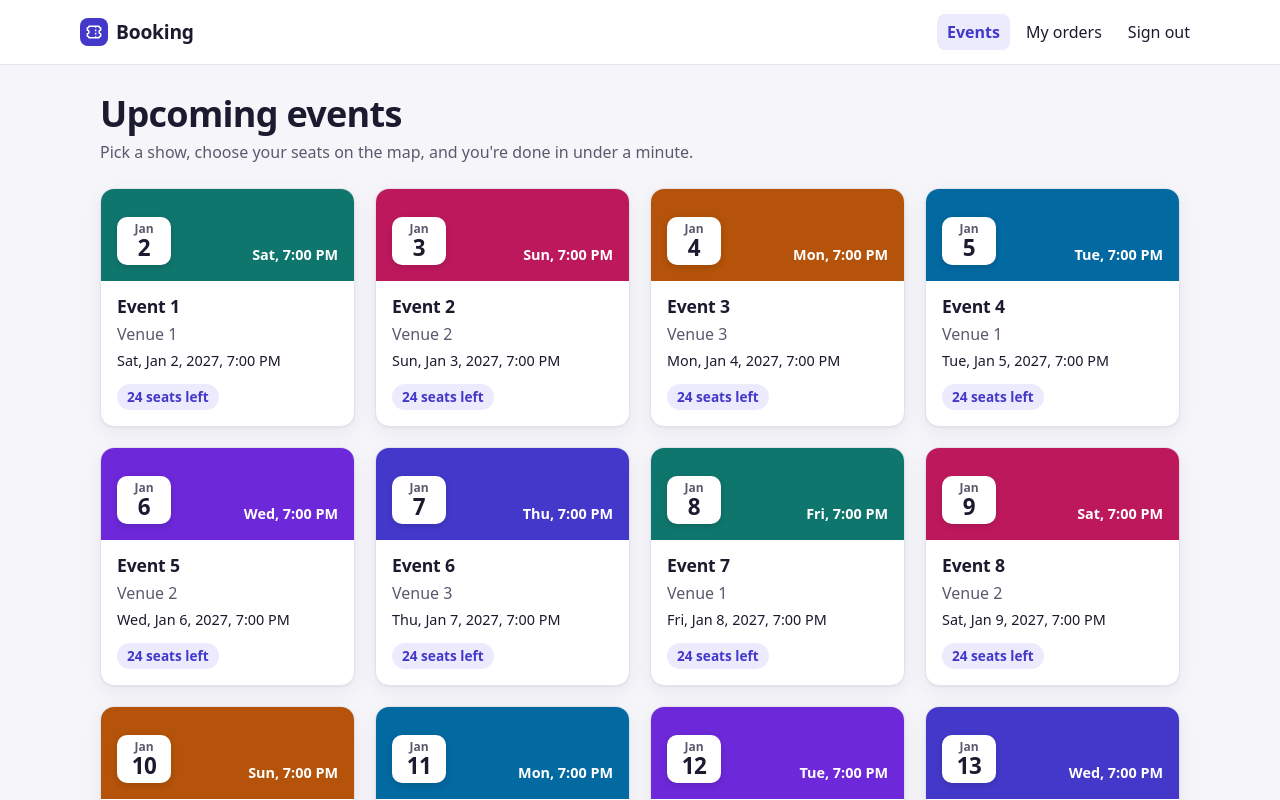
Test: SignInPage › signs out
Click the button "Sign out": point(1159, 32) 1118,14 -> 1200,50
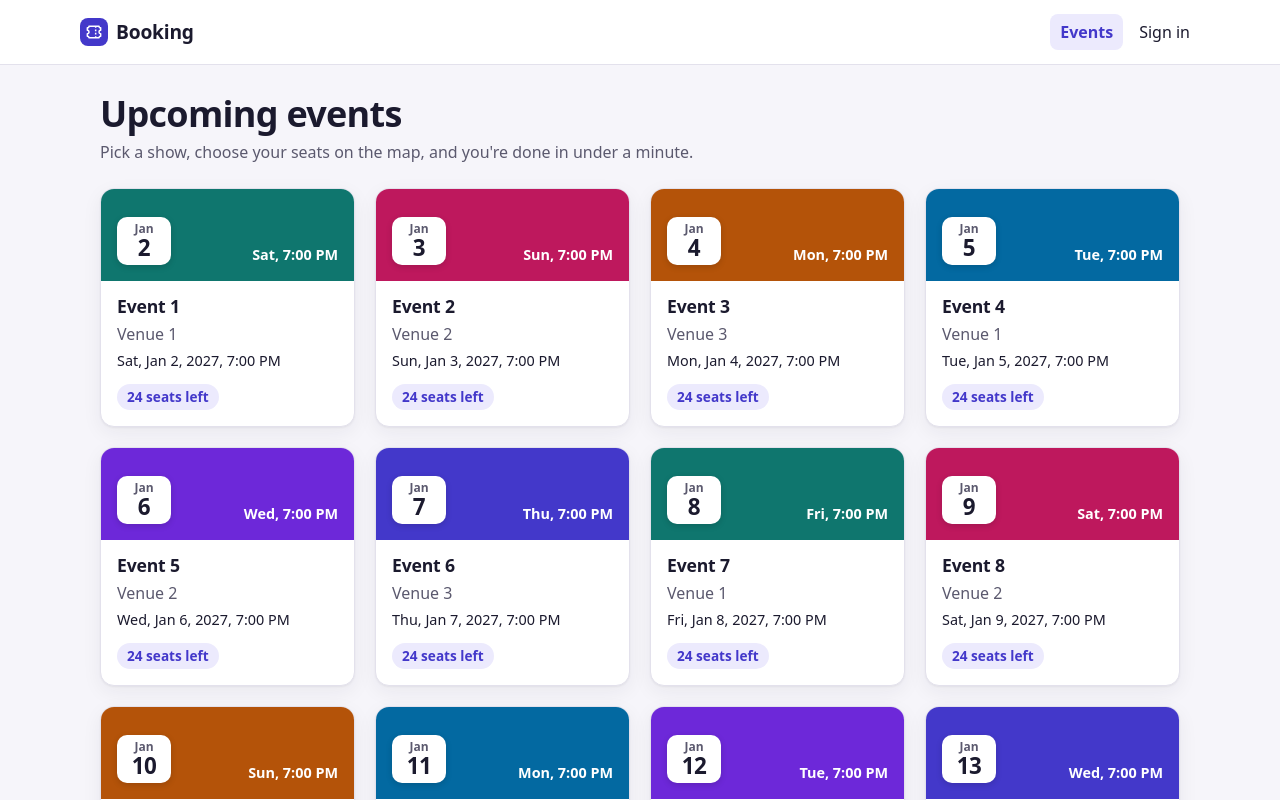
Now the link "Sign in" is shown, box 1139,21 -> 1190,43
